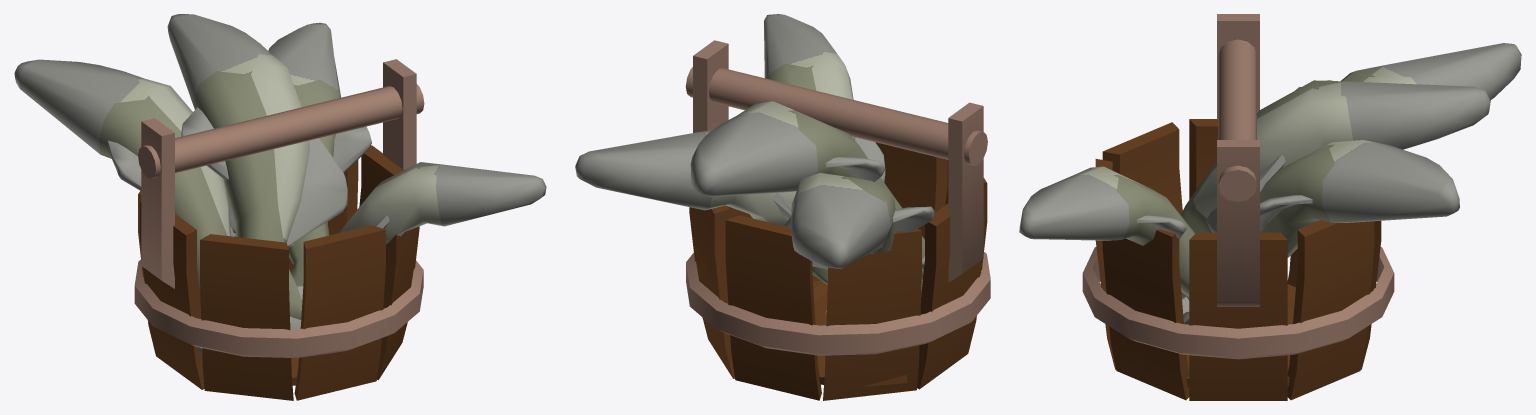
File: Prop_Bucket_Fishes.gltf
3 renders of one model, left to right at view 1: azimuth 30°, elevation 25°; view 2: azimuth 150°, elevation 25°; view 3: azimuth 270°, elevation 25°, orthographic. The views are drawn at different scales.
Visible parts, largest first — view 1: Prop_Bucket_Fishes; view 2: Prop_Bucket_Fishes; view 3: Prop_Bucket_Fishes.
Boxes of the visible parts, x1,y1,x2,y2 form: Prop_Bucket_Fishes: [14, 14, 546, 400]; Prop_Bucket_Fishes: [575, 14, 990, 400]; Prop_Bucket_Fishes: [1019, 14, 1521, 400].
Size of the model in its own units: 0.8598 by 0.6795 by 1.15.
Materials: 1 (1 with a texture image).
